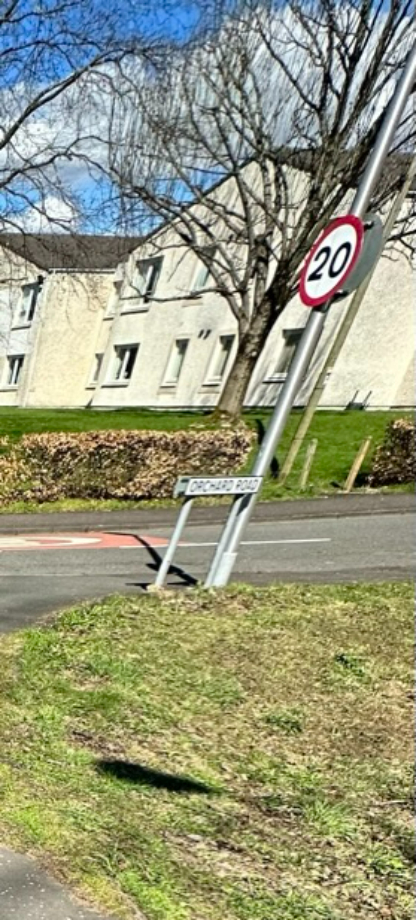tree: (111, 0, 416, 418)
